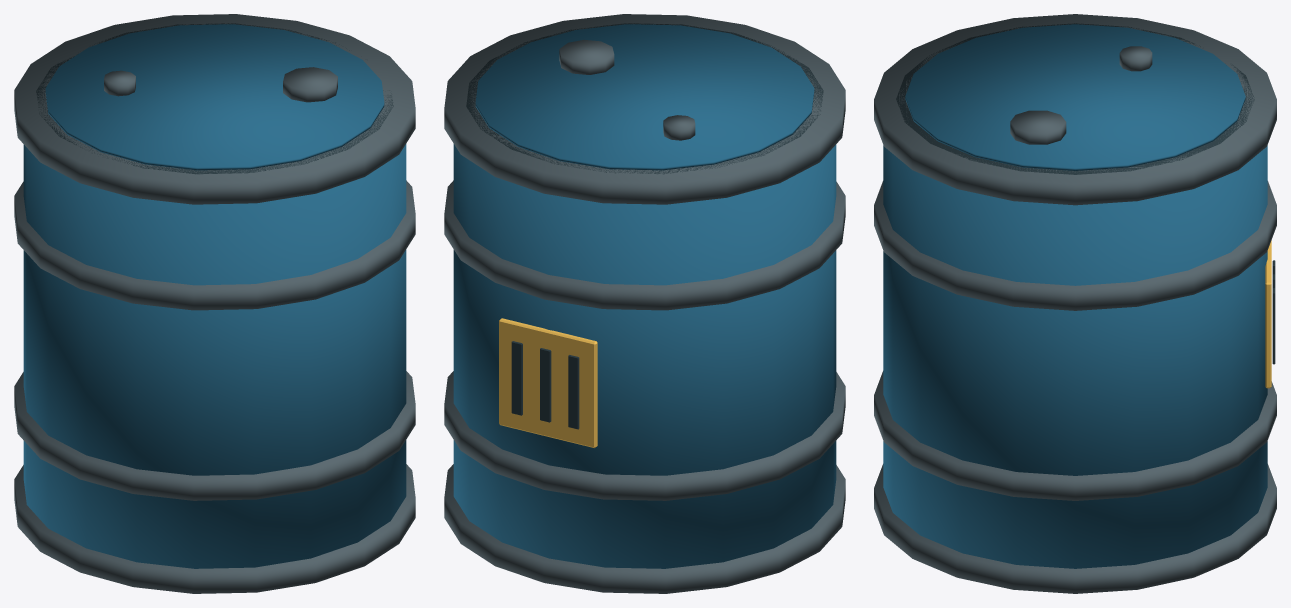
File: Barrel.glb
The picture shows the model from 3 angles, left to right: view 1: azimuth 30°, elevation 25°; view 2: azimuth 150°, elevation 25°; view 3: azimuth 270°, elevation 25°; orthographic projection.
Parts seen in each view (by area): view 1: Barrel; view 2: Barrel; view 3: Barrel.
Boxes of the visible parts, x1=… form: Barrel: x1=14, y1=14, x2=415, y2=593; Barrel: x1=444, y1=14, x2=845, y2=593; Barrel: x1=874, y1=14, x2=1276, y2=593.
Size of the model in its own units: 0.864 by 1 by 0.864.
